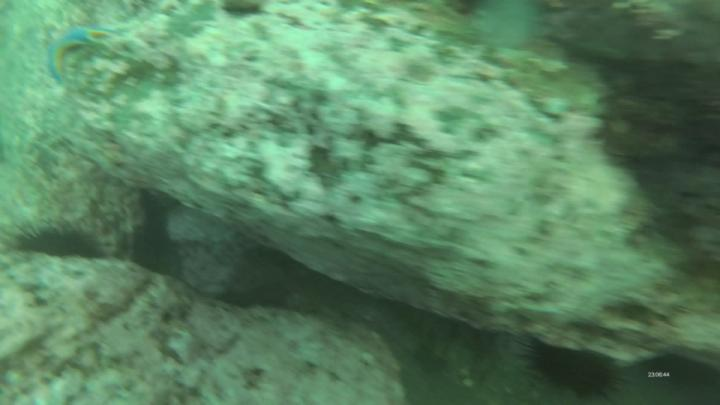echinus: (528, 336, 625, 399)
starfish: (45, 20, 109, 79)
